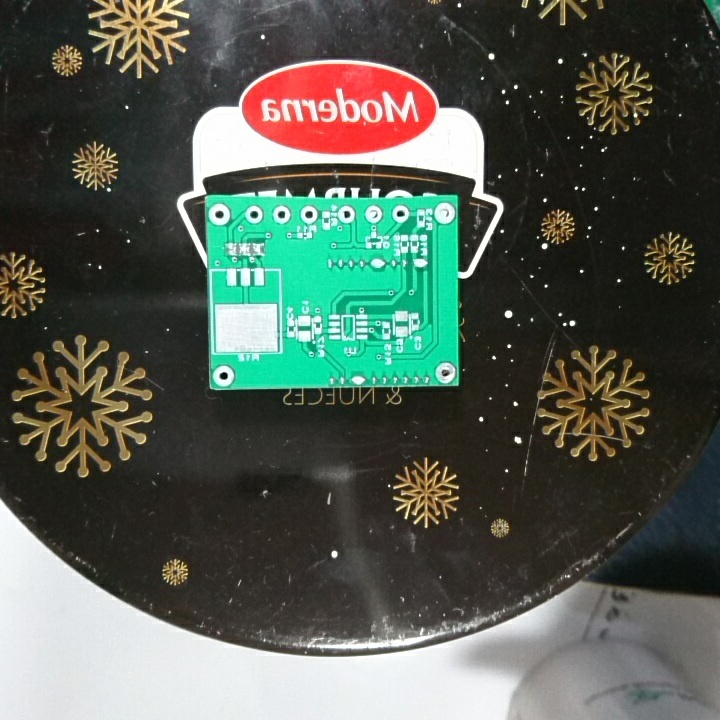F: (211, 362, 238, 389), (207, 201, 233, 227), (432, 359, 459, 384), (431, 201, 457, 226), (242, 203, 265, 226), (298, 203, 320, 226), (271, 203, 293, 226), (336, 203, 357, 226), (391, 203, 412, 225), (362, 204, 383, 226)
P: (367, 255, 388, 272), (410, 255, 431, 270), (348, 372, 368, 386)
